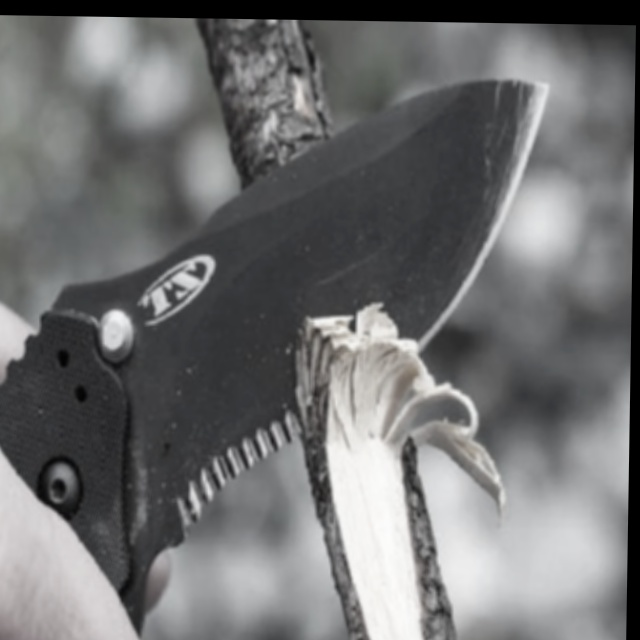Sharp-Object: (0, 69, 547, 640)
